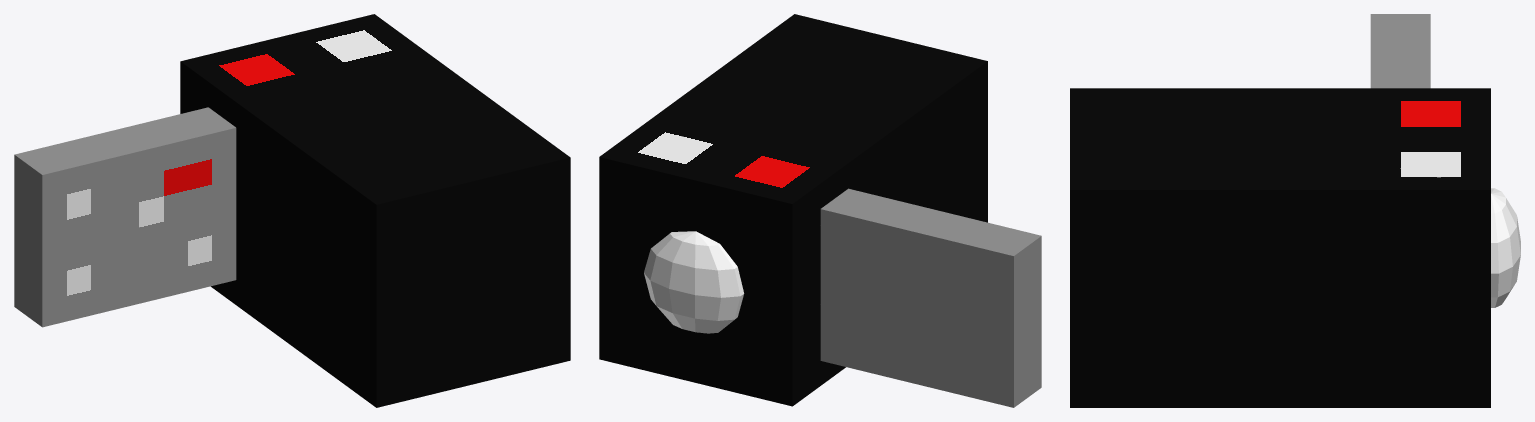
Rendered from Camera.gltf.
The picture shows the model from 3 angles, left to right: view 1: azimuth 30°, elevation 25°; view 2: azimuth 150°, elevation 25°; view 3: azimuth 270°, elevation 25°; orthographic projection. The views are drawn at different scales.
Parts seen in each view (by area): view 1: mesh (×2); view 2: mesh (×2), sphere; view 3: mesh (×2), sphere.
Part boxes in pixels (x1,y1,x2,y2): mesh (×2): [14, 14, 570, 407]; mesh (×2): [599, 14, 1041, 407]; sphere: [644, 231, 744, 333]; mesh (×2): [1070, 14, 1490, 407]; sphere: [1491, 188, 1520, 307].
Size of the model in its own units: 1 by 0.5 by 0.9375.
Materials: 3 (3 with a texture image).
